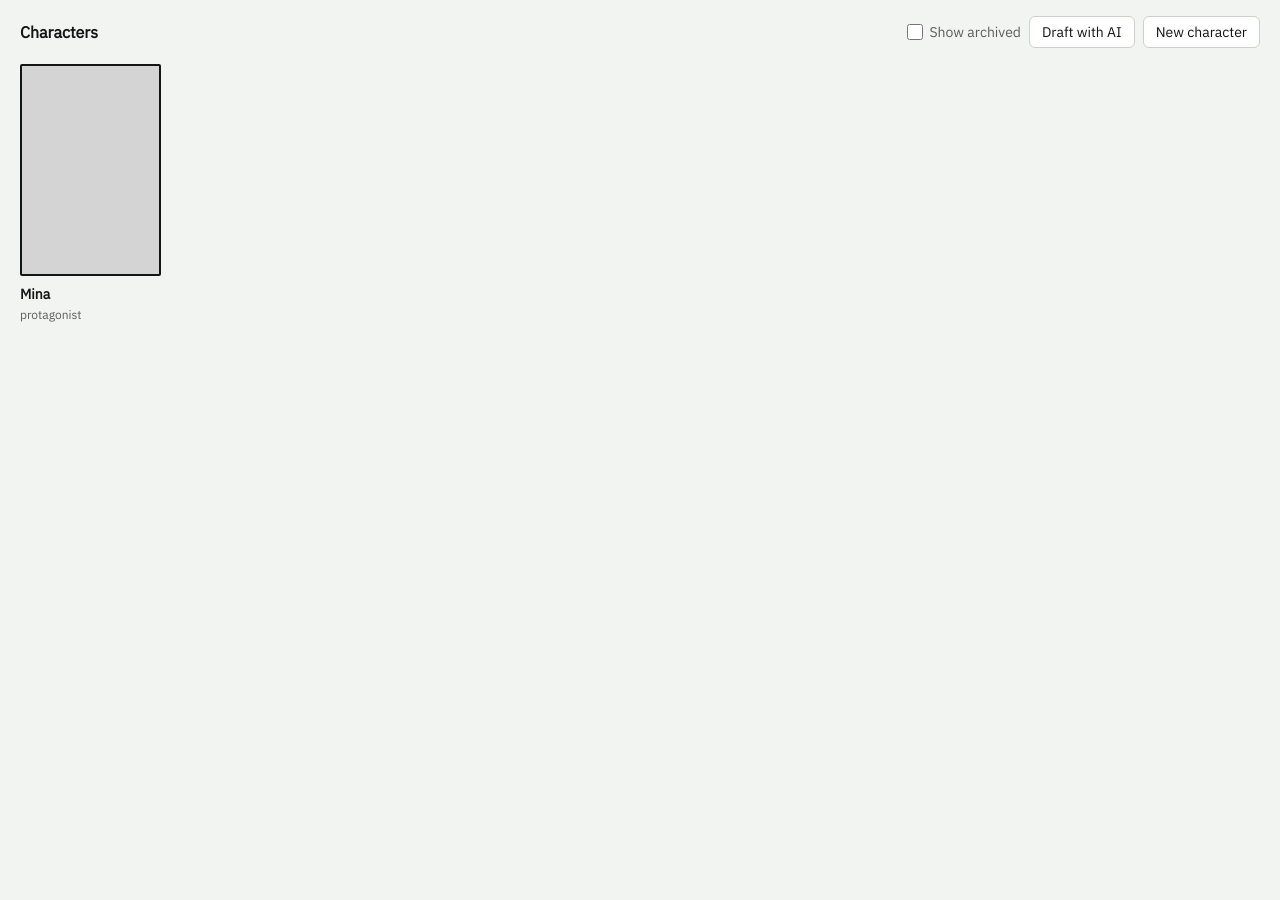
Test: CharacterStudio › offers no Upload on a variation while its image is generating
Click the text "Mina": (35, 294) left=20, top=284, right=50, bottom=302
(page scrolled)
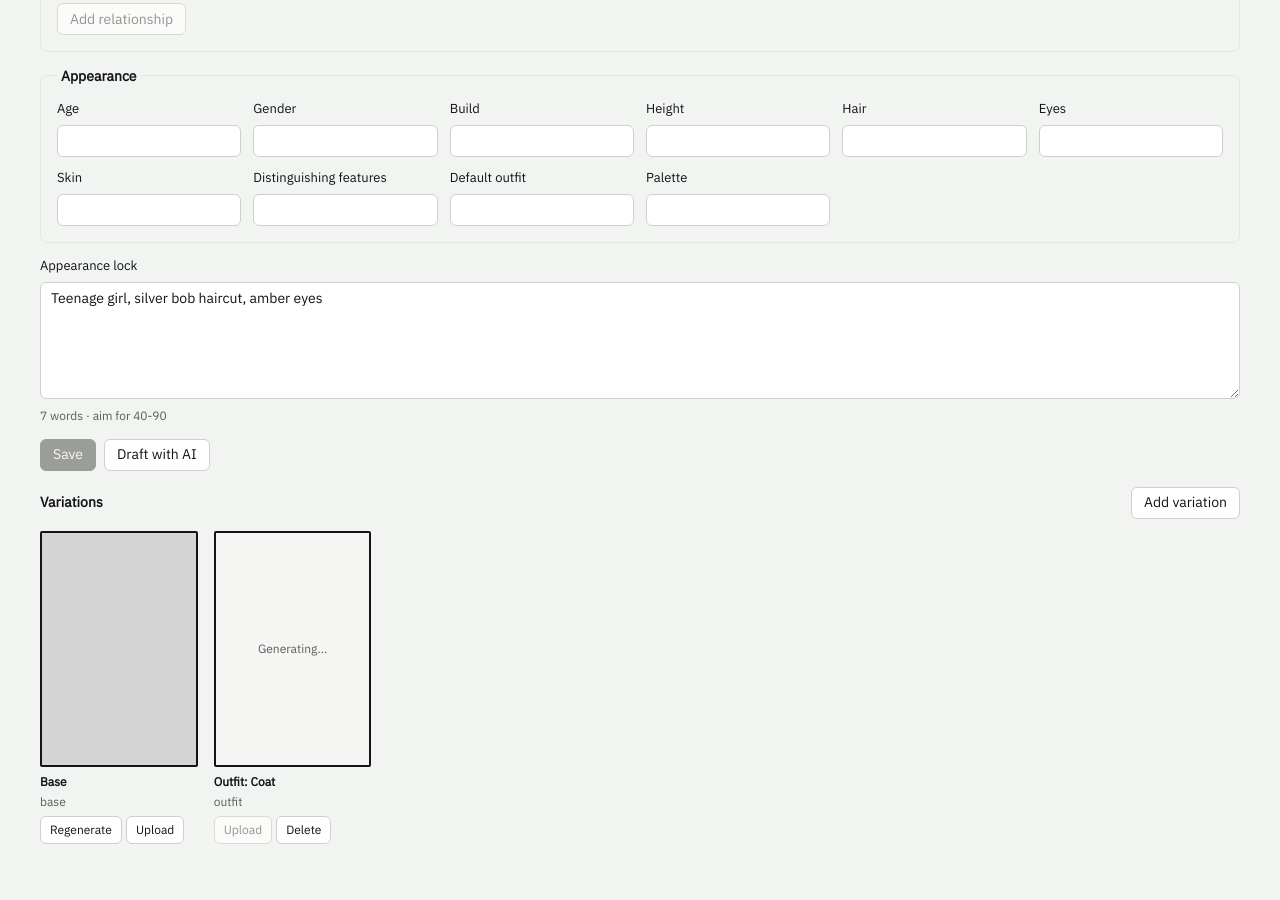
expect the 1st button "Upload" is enabled: met, box left=126, top=816, right=184, bottom=844
expect the button "Upload" below "Generating…" is disabled: met, box left=214, top=816, right=272, bottom=844
